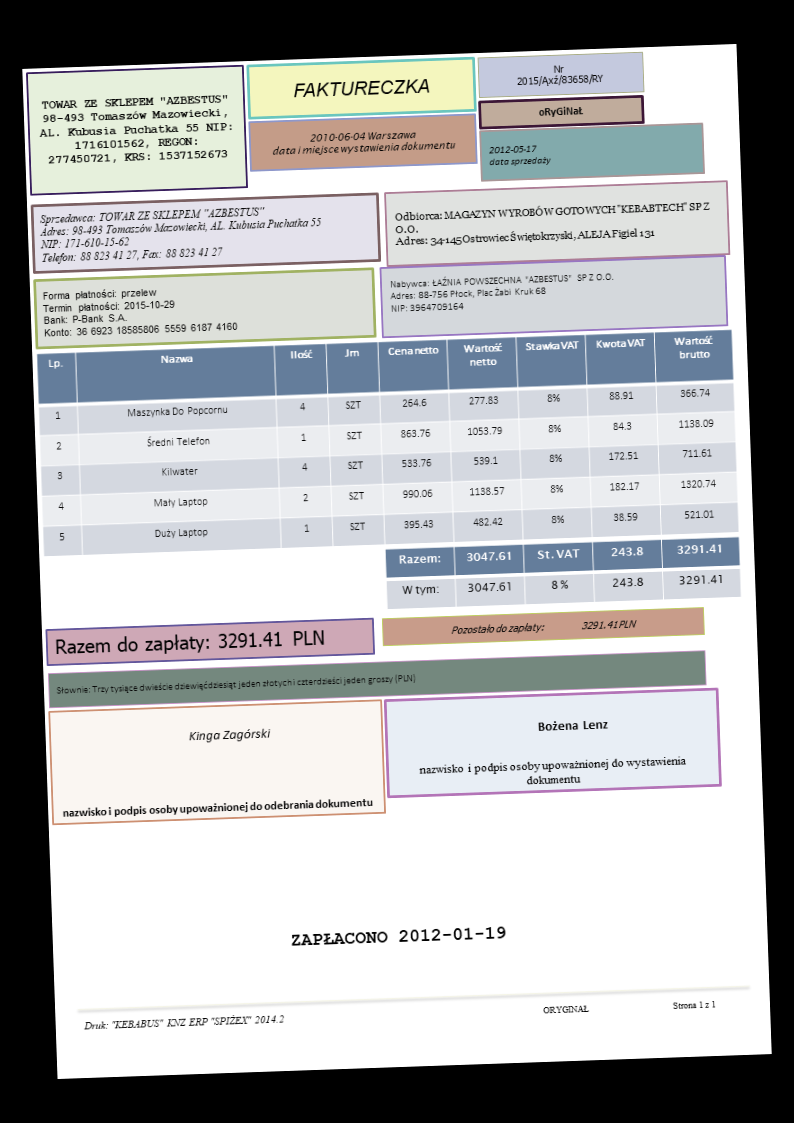Table: (36, 328, 740, 557), (384, 535, 741, 610)
TextBox: (38, 201, 323, 264), (392, 199, 712, 250), (36, 92, 234, 166), (41, 283, 240, 339), (386, 269, 617, 316), (418, 754, 687, 791), (55, 671, 418, 698), (54, 626, 326, 657), (60, 793, 372, 820), (269, 127, 458, 158), (289, 923, 508, 948), (82, 1011, 287, 1033), (449, 616, 639, 638), (291, 74, 432, 100), (541, 997, 717, 1017), (515, 60, 605, 88), (186, 724, 272, 745), (487, 141, 552, 168), (536, 717, 611, 734), (537, 103, 585, 118)
